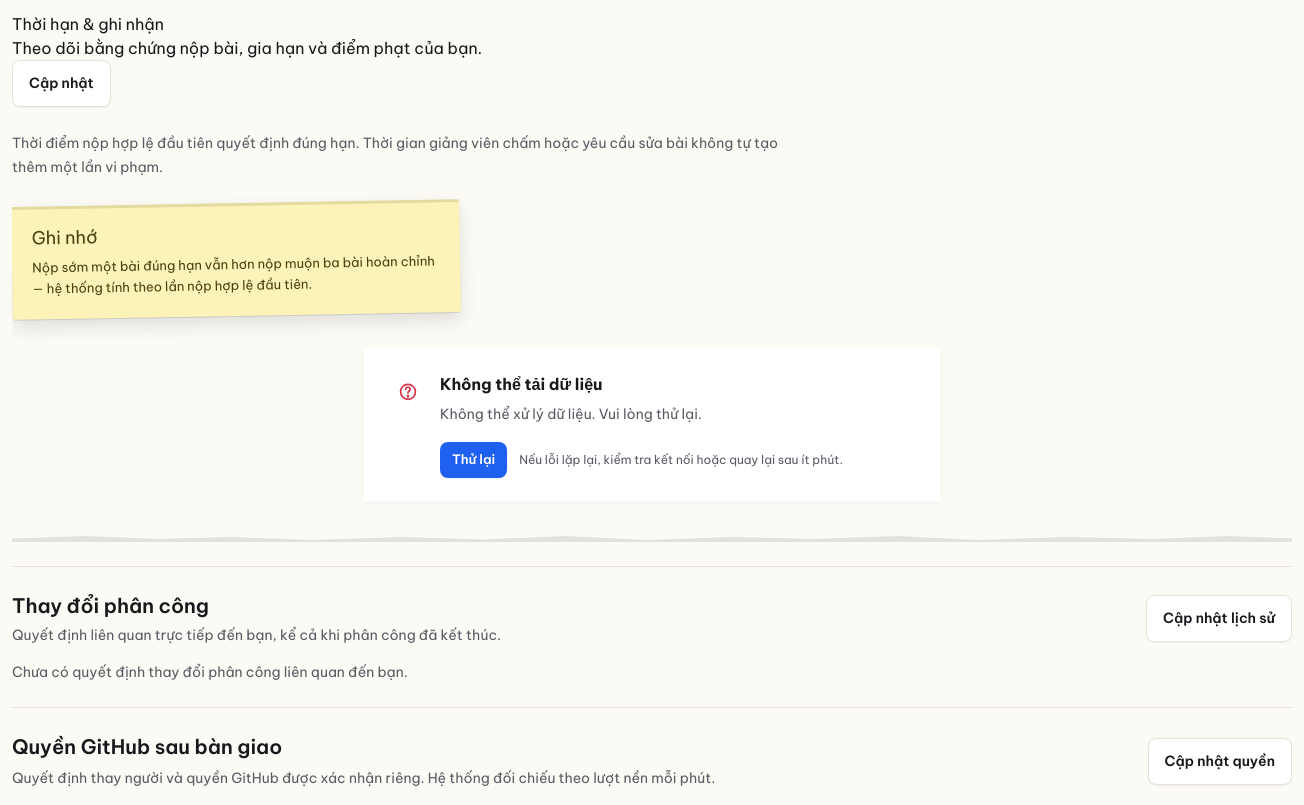
Test: participation evidence › recovers from a failed read using retry
Click the button "Thử lại". click: [474, 460]
box: [440,442,507,478]
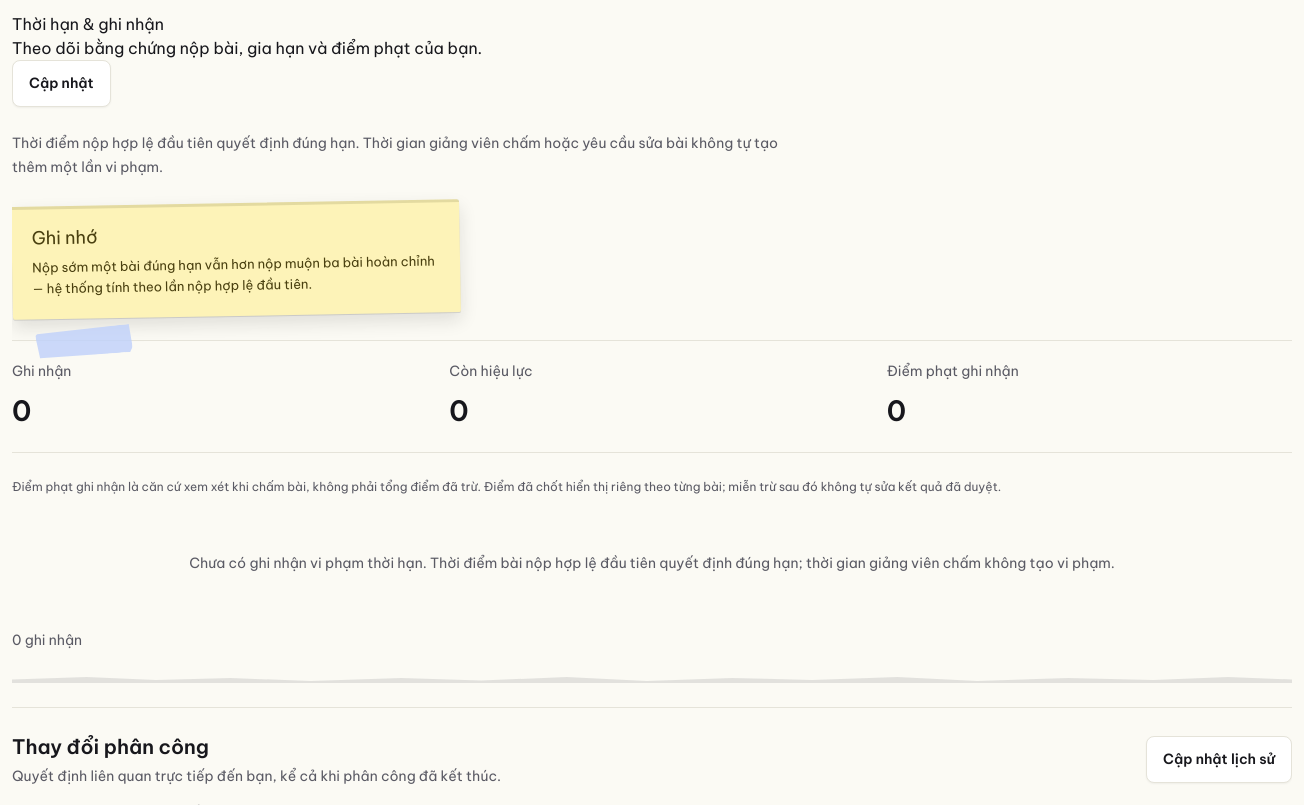
expect the text "Chưa có ghi nhận vi phạm" is shown: met, box [189,554,1115,572]
